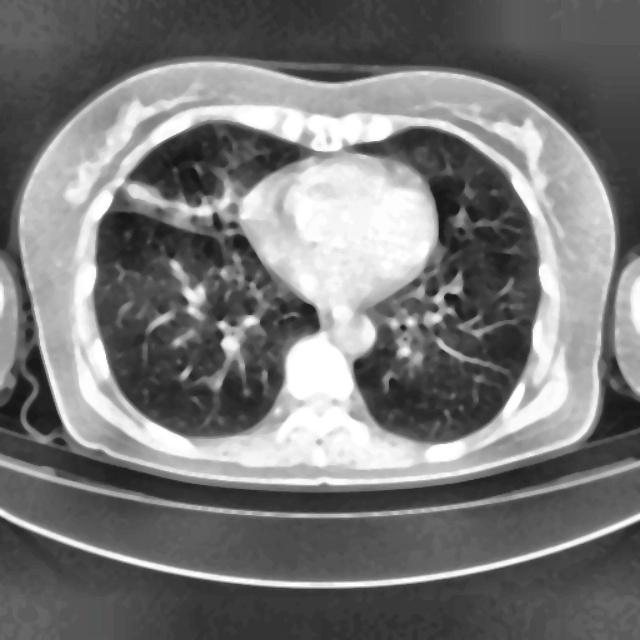covid: (14, 57, 618, 490)
